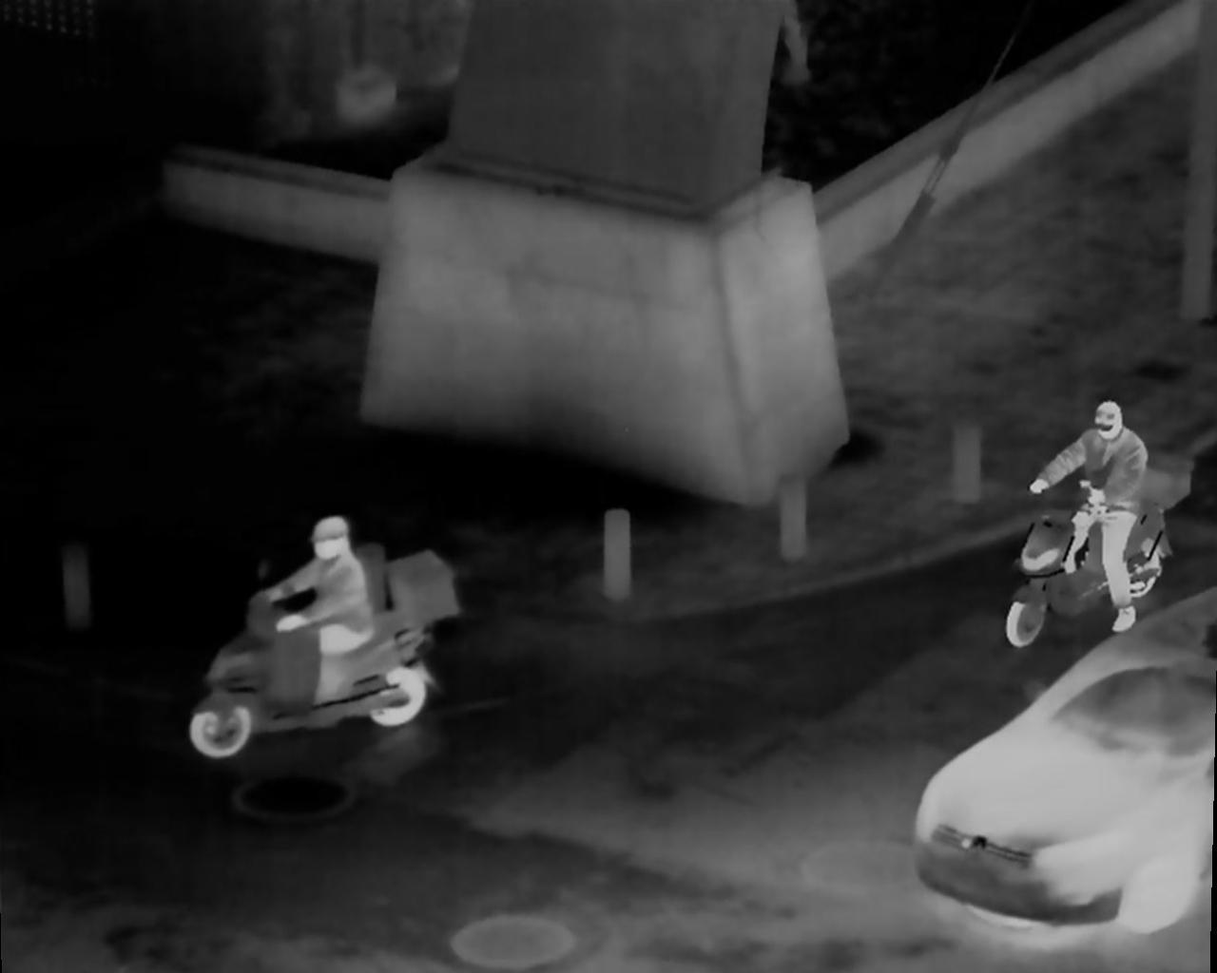person: (1020, 399, 1159, 653), (261, 511, 386, 709)
